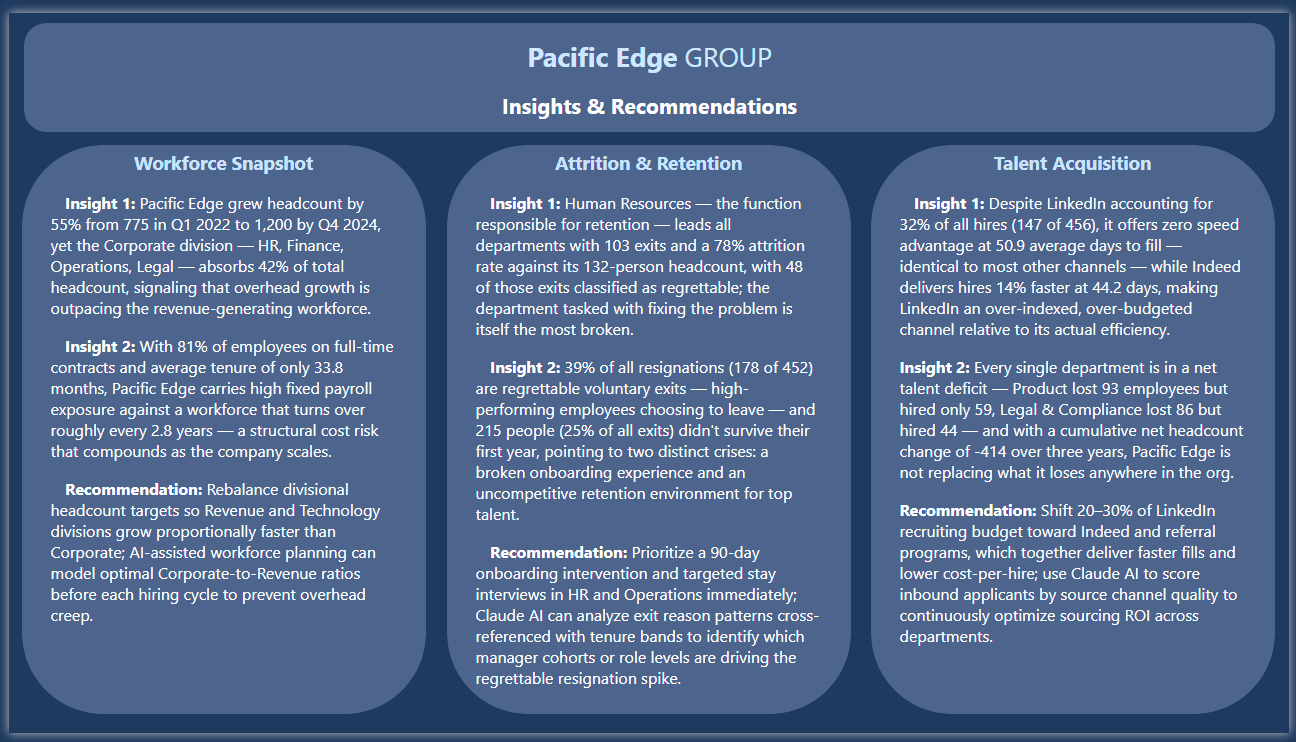

The dashboard page shown, as its layout file describes it:
{"tool":"powerbi","page":{"name":"Insights & Recommendations","canvas":[1280,720],"ordinal":3},"visuals":[{"type":"shape","box":[14.5,10,1251,109],"z":0},{"type":"textbox","box":[16,20,1250,99],"z":1000},{"type":"shape","box":[13,132,404,569],"z":2000},{"type":"textbox","box":[37,132,356,569],"z":3000},{"type":"shape","box":[437.5,132,404,569],"z":4000},{"type":"shape","box":[862,132,404,569],"z":5000},{"type":"textbox","box":[462,132,356,569],"z":6000},{"type":"textbox","box":[886,132,356,569],"z":7000}]}

Visuals, with their boxes in screenshot pixels (x1, y1, x2, y2), scaled from the page's 1280x720 canvas onto the 1296x742 screenshot:
shape: l=15, t=10, r=1281, b=123
textbox: l=16, t=21, r=1282, b=123
shape: l=13, t=136, r=422, b=722
textbox: l=37, t=136, r=398, b=722
shape: l=443, t=136, r=852, b=722
shape: l=873, t=136, r=1282, b=722
textbox: l=468, t=136, r=828, b=722
textbox: l=897, t=136, r=1258, b=722
